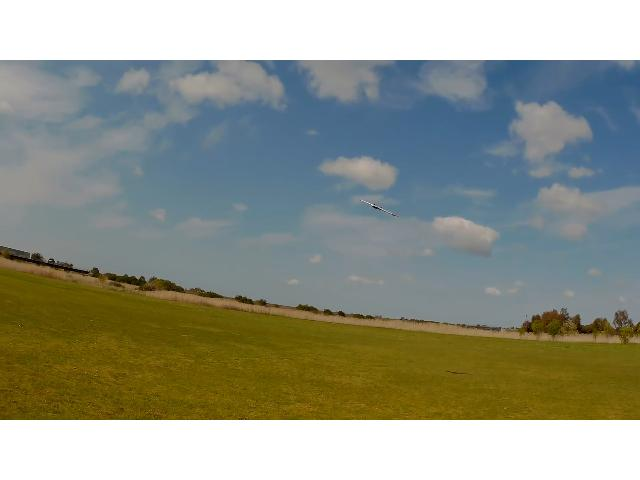Anti-Drone: (361, 200, 402, 218)
